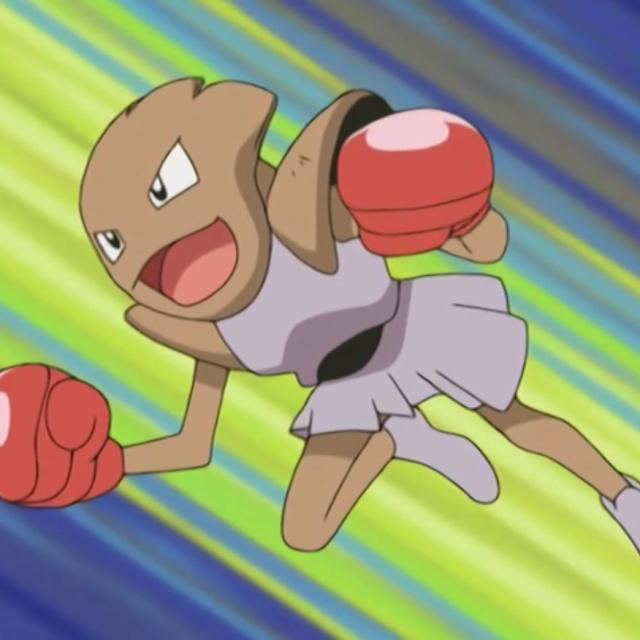Hitmonchan: (20, 67, 618, 544)
